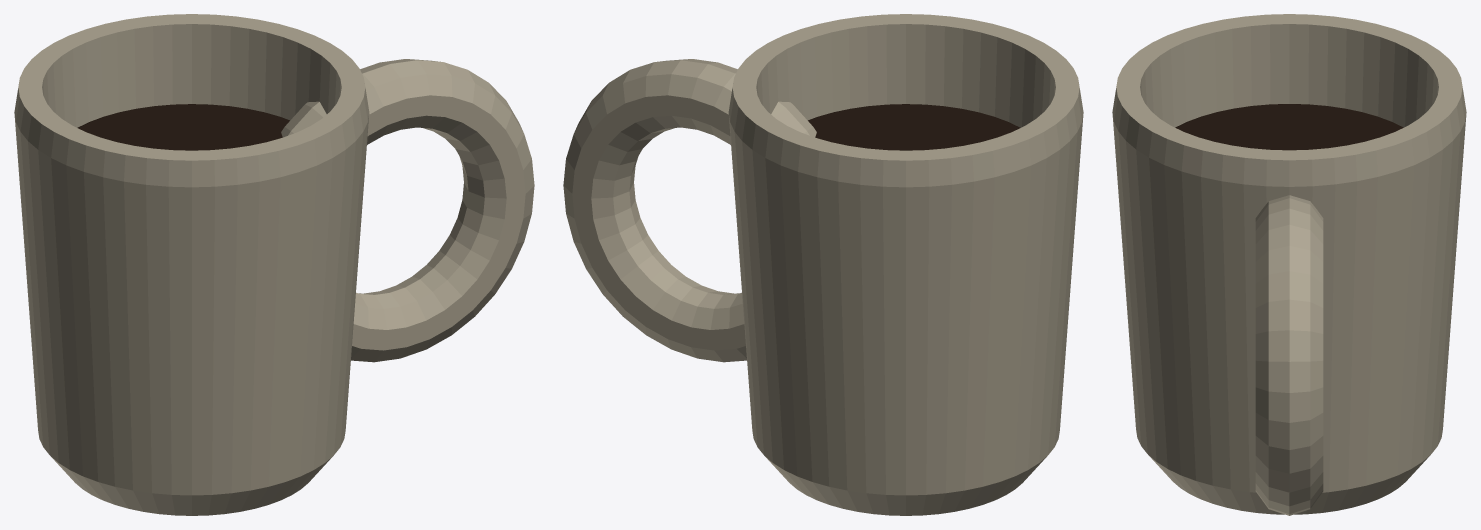
File: coffee_mug.glb
3 views of the same model, side by side, from view 1: azimuth 30°, elevation 25°; view 2: azimuth 150°, elevation 25°; view 3: azimuth 270°, elevation 25° (orthographic).
Visible parts, largest first — view 1: coffee_mug; view 2: coffee_mug; view 3: coffee_mug.
Part boxes in pixels (left/top/right/bottom): coffee_mug: left=14, top=14, right=534, bottom=515; coffee_mug: left=563, top=14, right=1083, bottom=515; coffee_mug: left=1112, top=14, right=1466, bottom=515.
Size of the model in its own units: 0.144 by 0.105 by 0.09.
